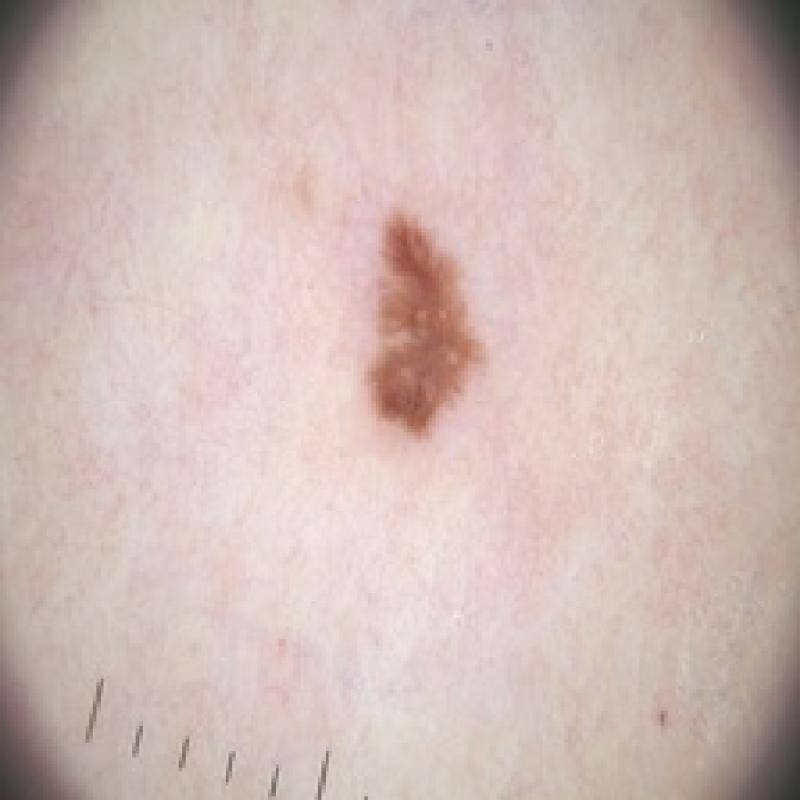malignant: (314, 207, 540, 475)
